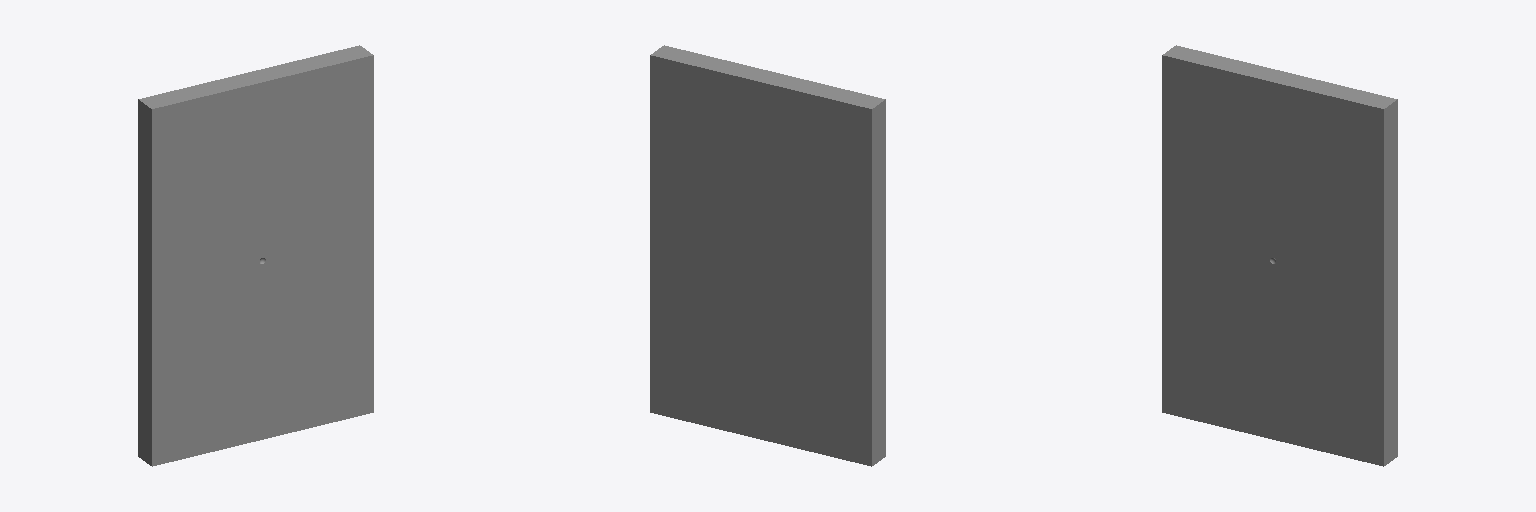
The model's file is water.obj.
3 renders of one model, left to right at view 1: azimuth 30°, elevation 25°; view 2: azimuth 150°, elevation 25°; view 3: azimuth 330°, elevation 25°, orthographic.
Bounding box in the file's own units: 8.44 × 13 × 0.9.